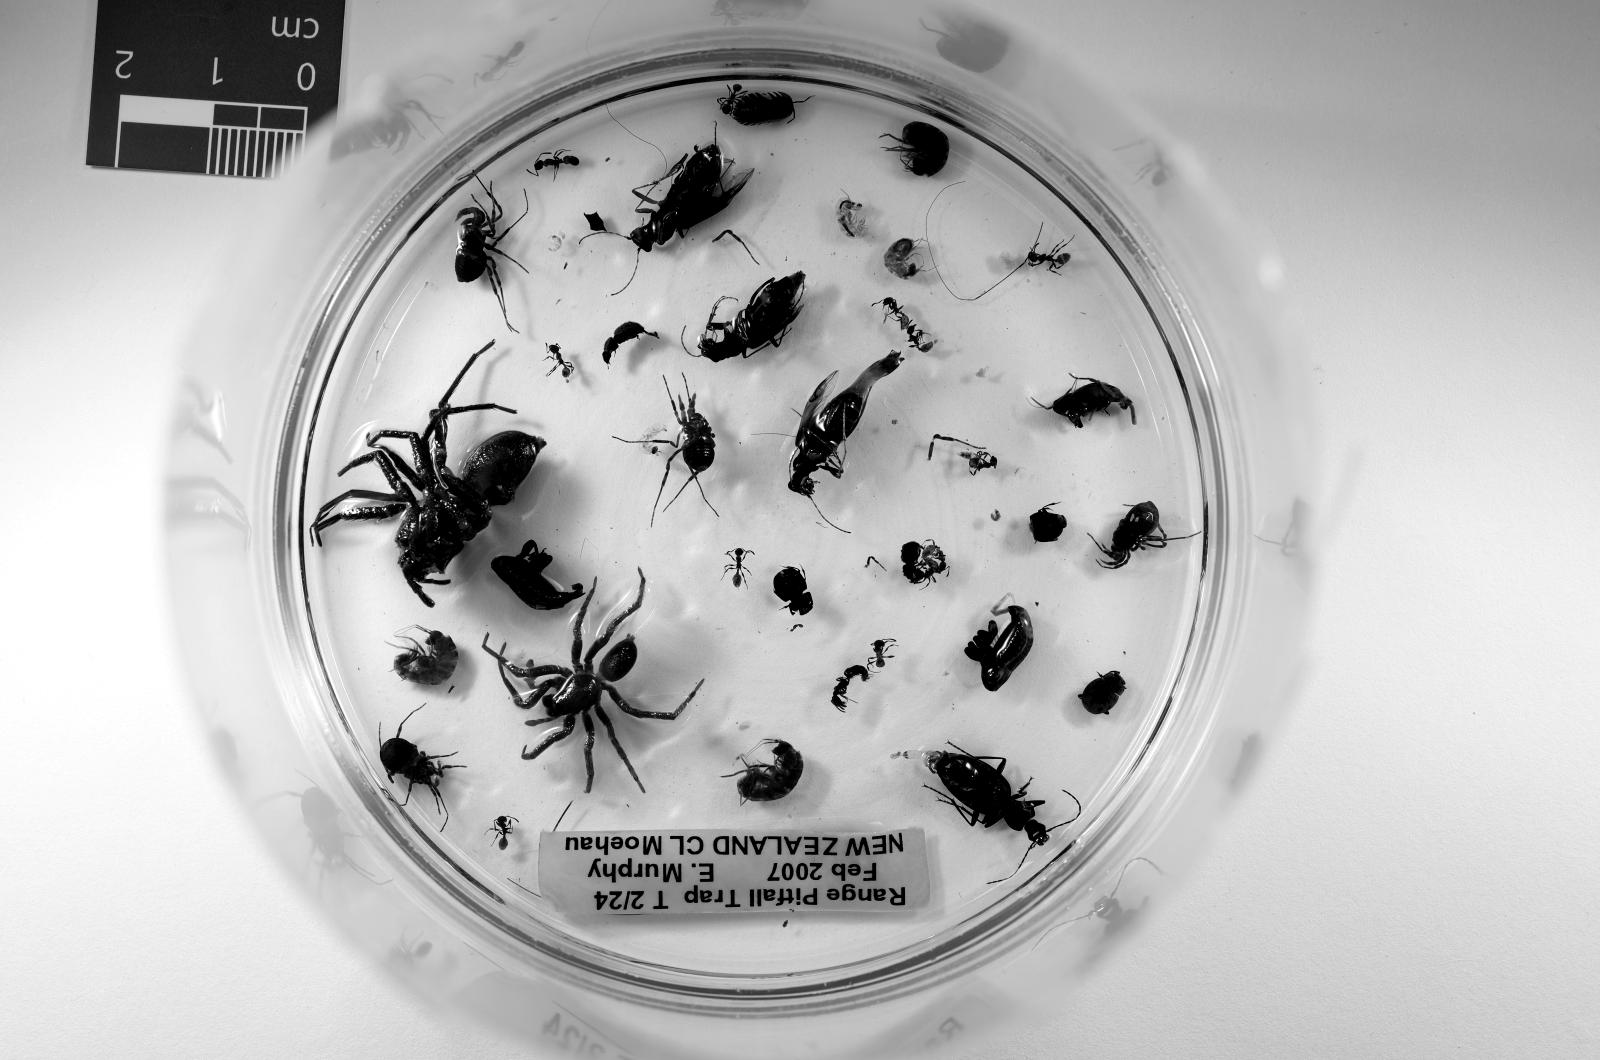amphipoda: (738, 739, 803, 804), (394, 631, 459, 686), (887, 121, 950, 177), (885, 239, 919, 279), (837, 199, 866, 237)
araneae: (310, 342, 544, 606), (481, 568, 704, 791)
carabidae: (628, 140, 753, 252), (925, 749, 1050, 848), (788, 376, 869, 497), (697, 273, 807, 360)
coleoptera: (491, 541, 584, 608), (966, 606, 1035, 692), (603, 323, 656, 363), (1078, 671, 1125, 715), (772, 568, 812, 615), (900, 541, 925, 584)
formicidae: (1018, 233, 1071, 273), (831, 665, 869, 711), (529, 149, 582, 174), (721, 547, 753, 587), (879, 298, 913, 332), (903, 319, 938, 354), (546, 342, 575, 382), (959, 451, 997, 476), (491, 816, 516, 851), (922, 541, 947, 575), (719, 84, 744, 115), (869, 640, 896, 667)
isopoda: (731, 93, 793, 128)
opiliones: (453, 187, 516, 332), (378, 724, 456, 823), (656, 392, 715, 493), (1094, 503, 1185, 568)
